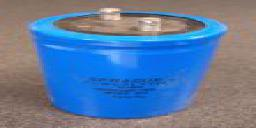Electrolytic-capacitor: (30, 6, 226, 121)
